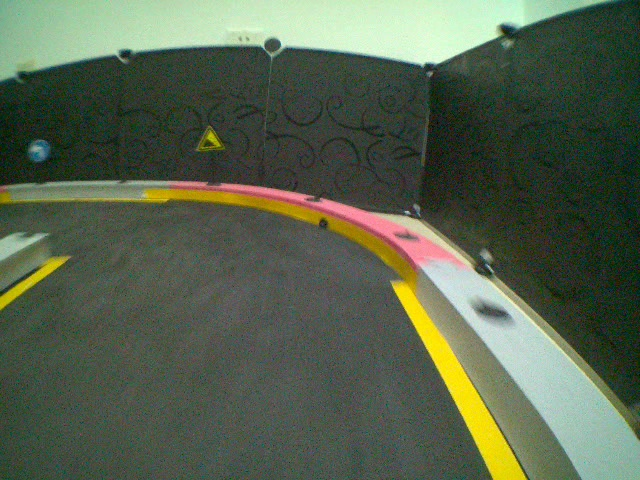fast: (194, 124, 227, 150)
turn: (25, 140, 51, 164)
